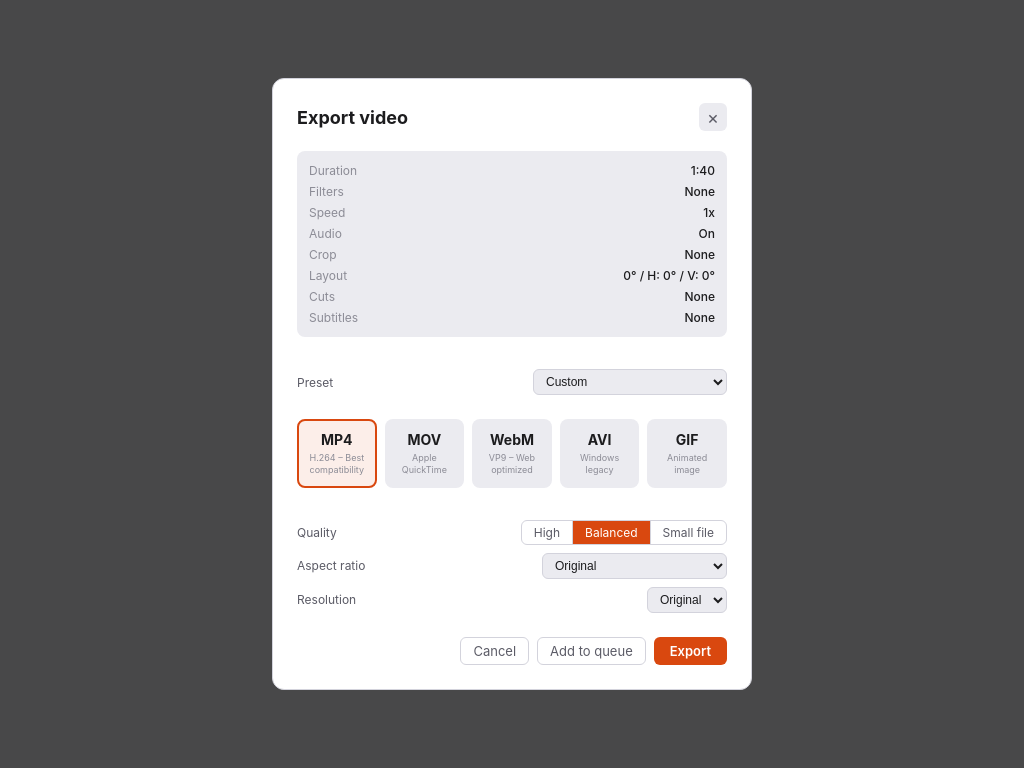
ExportModal — export options › GIF › replaces the resolution by a width and a frame rate
The image size is (1024, 768).
Step 1. Click the button with class "format-card" showing "GIF Animated image" → [687, 454], box [647,419,727,488]
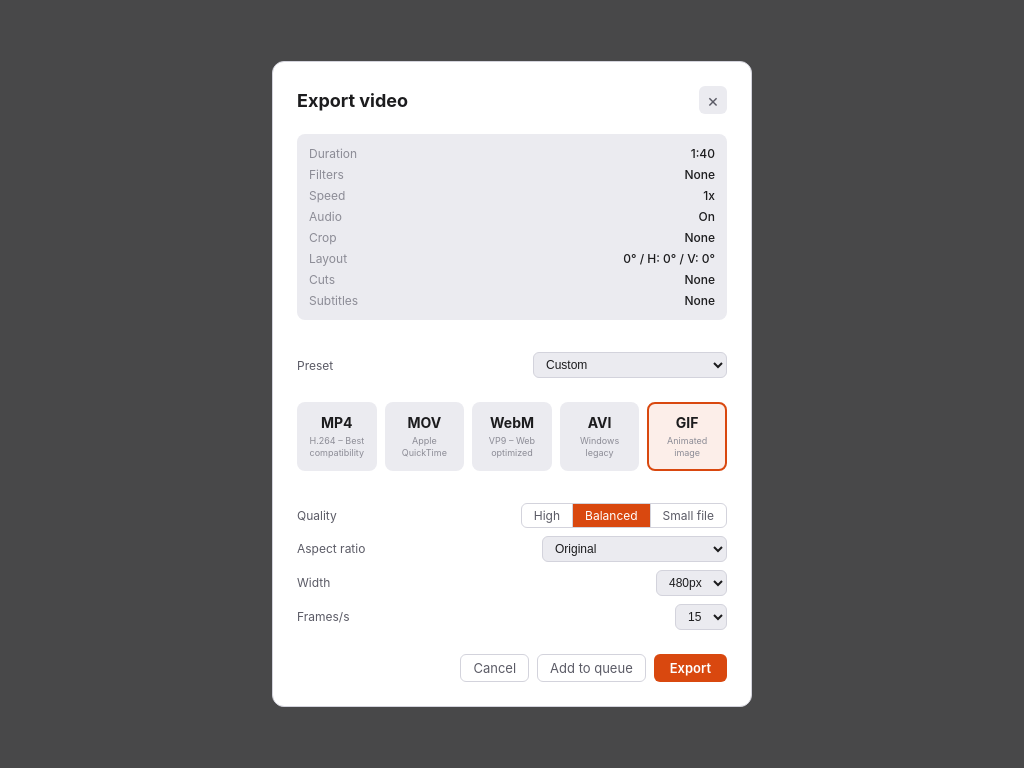
Now the label with id "opt-resolution" is gone
Now the dropdown with id "opt-gif-width" is shown, box [656,570,727,596]
Now the dropdown with id "opt-gif-fps" is shown, box [675,604,727,630]
